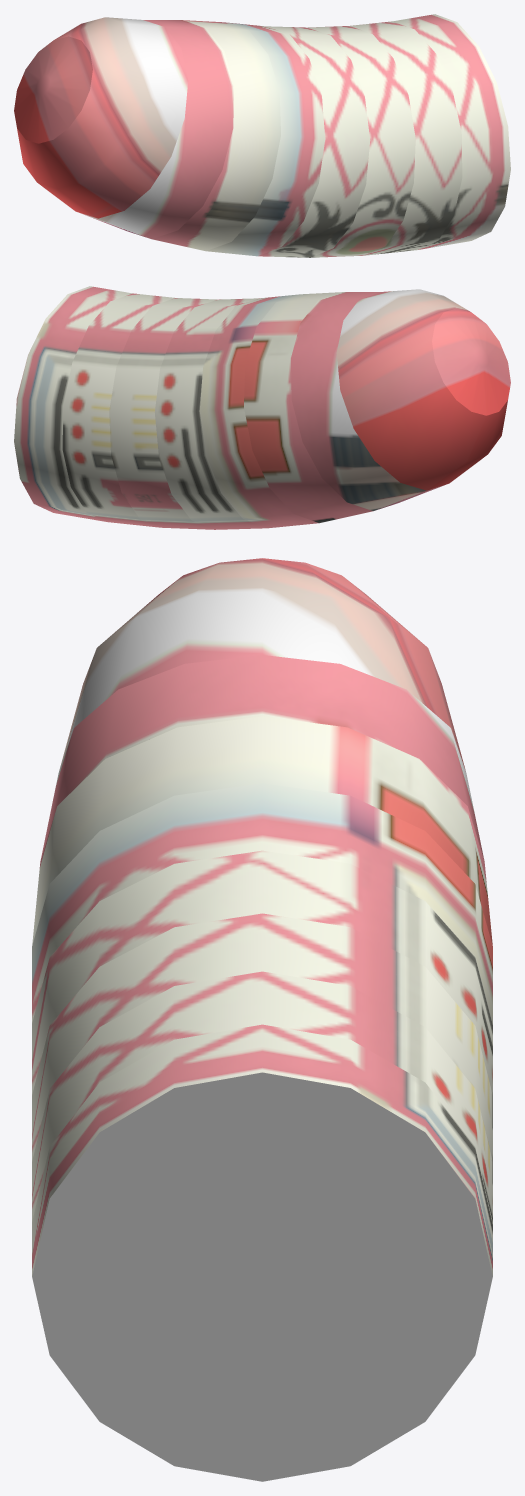
The model's file is banana_half (2).fbx.
3 renders of one model, top to bottom at view 1: azimuth 30°, elevation 25°; view 2: azimuth 150°, elevation 25°; view 3: azimuth 270°, elevation 25°, orthographic. The views are drawn at different scales.
Parts seen in each view (by area): view 1: polySurface2, polySurface17, polySurface11, polySurface8, polySurface1, polySurface19, polySurface18, polySurface7; view 2: polySurface2, polySurface17, polySurface11, polySurface8, polySurface1, polySurface19, polySurface18, polySurface7; view 3: polySurface8, polySurface7, polySurface11, polySurface18, polySurface2, polySurface19, polySurface1, polySurface17.
Boxes of the visible parts, x1,y1,x2,y2 form: polySurface2: [14, 17, 188, 218]; polySurface17: [78, 20, 233, 238]; polySurface11: [152, 20, 280, 251]; polySurface8: [392, 14, 510, 249]; polySurface1: [350, 21, 462, 255]; polySurface19: [308, 26, 415, 257]; polySurface18: [258, 26, 370, 257]; polySurface7: [206, 22, 325, 256]; polySurface2: [336, 289, 510, 490]; polySurface17: [291, 292, 446, 510]; polySurface11: [244, 292, 372, 523]; polySurface8: [14, 286, 132, 521]; polySurface1: [62, 293, 174, 527]; polySurface19: [109, 298, 216, 529]; polySurface18: [154, 298, 266, 529]; polySurface7: [199, 294, 318, 528]; polySurface8: [32, 1024, 492, 1481]; polySurface7: [32, 783, 492, 1022]; polySurface11: [32, 716, 492, 944]; polySurface18: [32, 850, 492, 1094]; polySurface2: [59, 558, 465, 769]; polySurface19: [32, 913, 492, 1161]; polySurface1: [32, 971, 492, 1221]; polySurface17: [40, 655, 484, 859].
Size of the model in its own units: 115 by 73.03 by 52.94.
